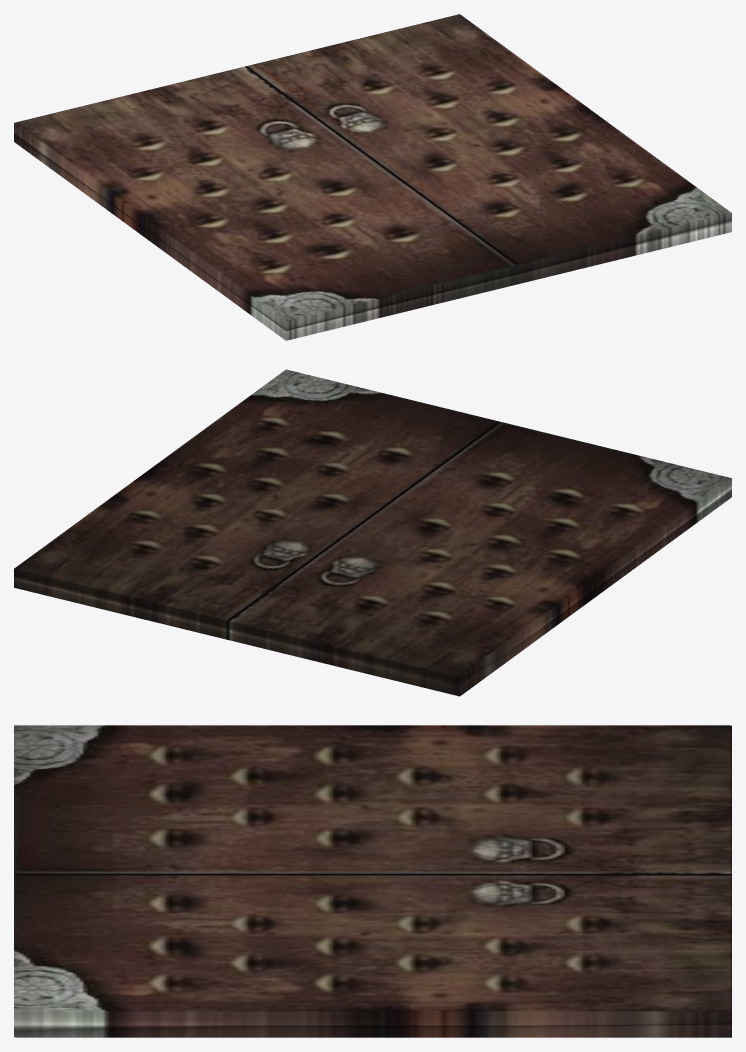
The picture shows the model from 3 angles, top to bottom: view 1: azimuth 30°, elevation 25°; view 2: azimuth 150°, elevation 25°; view 3: azimuth 270°, elevation 25°; orthographic projection. The views are drawn at different scales.
Parts seen in each view (by area): view 1: 0; view 2: 0; view 3: 0.
Part boxes in pixels (bbox=[...]): 0: bbox=[14, 14, 731, 340]; 0: bbox=[14, 369, 731, 696]; 0: bbox=[14, 725, 731, 1037].
Bounding box in the file's own units: 102 × 4.2 × 108.
